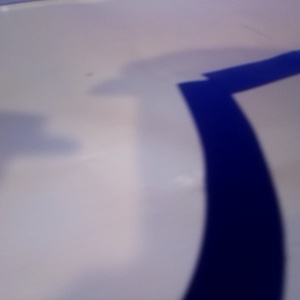bottom_right: (1, 142, 136, 261)
